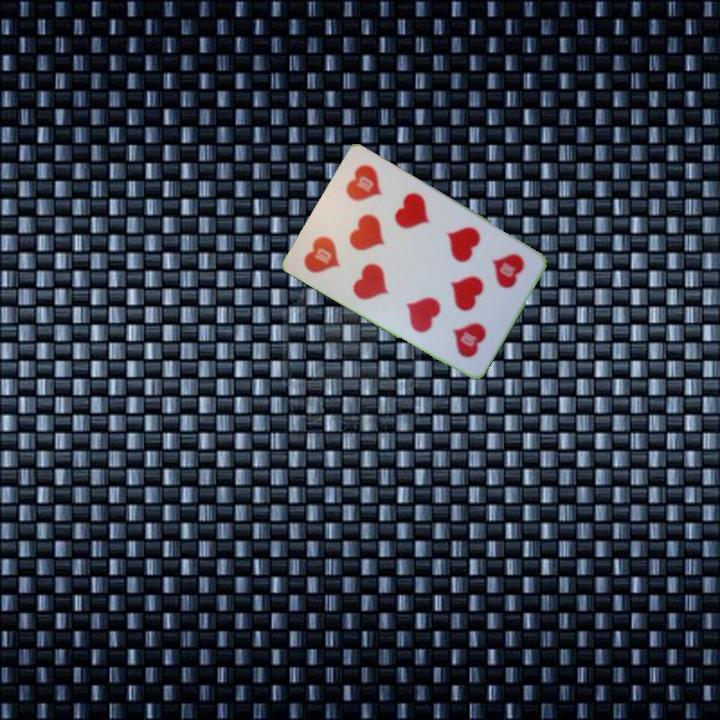h_10.png: (456, 233, 538, 318), (293, 207, 375, 292)
